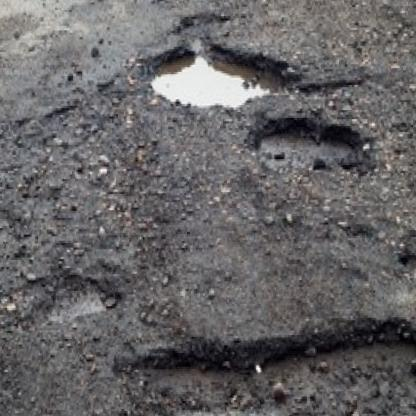pothole: (121, 315, 416, 416), (145, 40, 289, 115), (243, 112, 373, 178), (49, 277, 103, 326)
